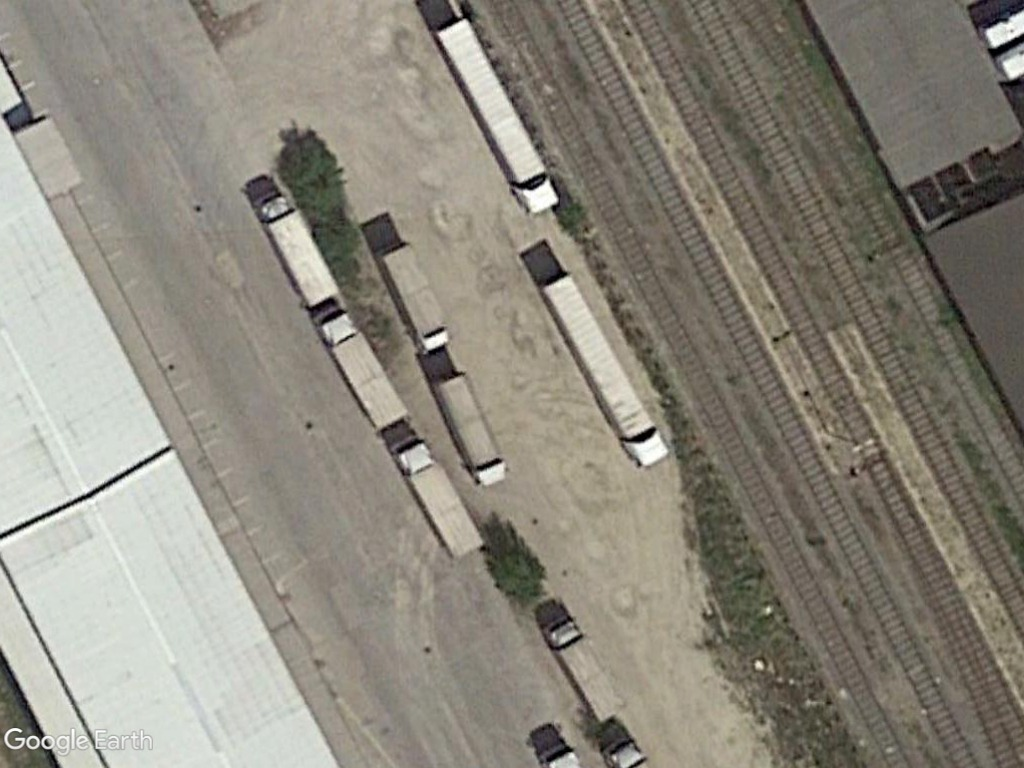longvehicle: (535, 268, 671, 475), (432, 10, 559, 226)
truck: (314, 307, 414, 436), (245, 186, 342, 317), (391, 437, 491, 557), (536, 612, 626, 727), (430, 366, 510, 492), (378, 233, 455, 362)
